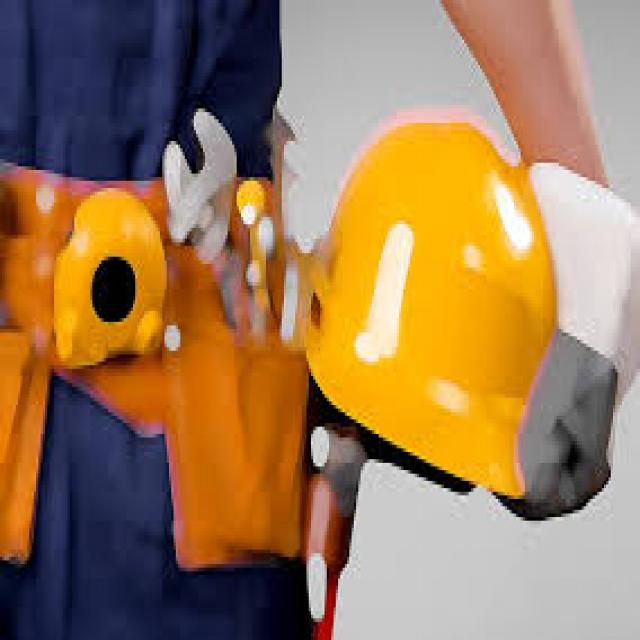Safety-Helmet: (295, 90, 577, 502)
